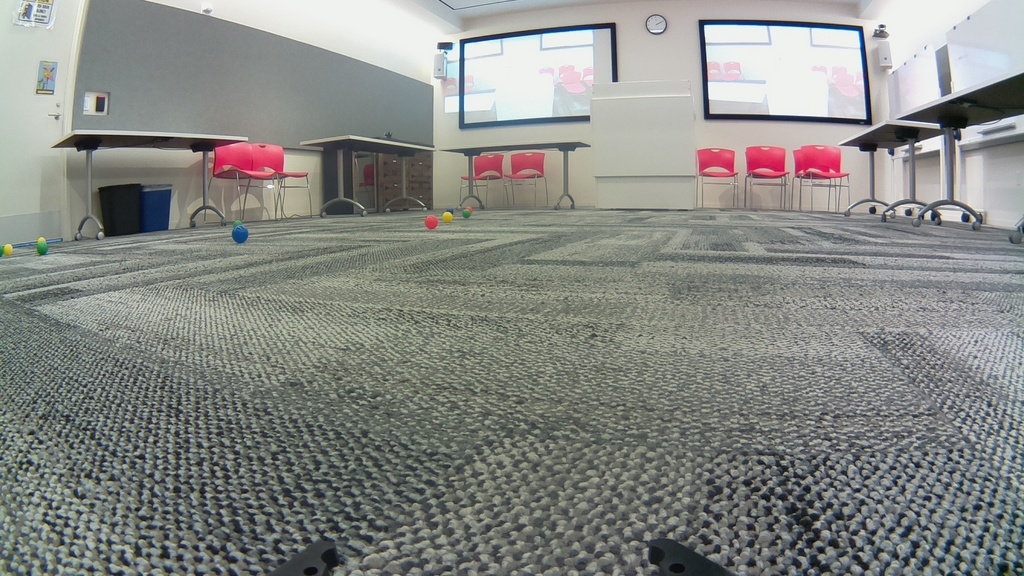ball: (461, 209, 469, 219)
